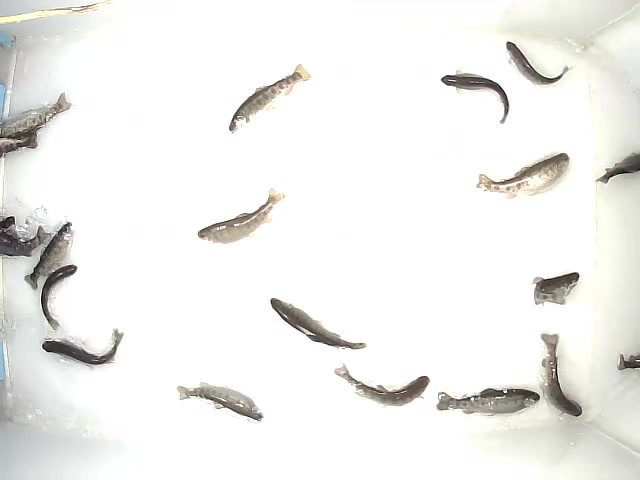fish: (228, 60, 311, 135), (268, 295, 369, 353), (194, 187, 285, 245), (475, 150, 571, 199), (332, 363, 431, 410), (22, 219, 76, 292), (41, 325, 123, 372), (439, 72, 510, 126), (437, 387, 543, 423), (540, 332, 585, 416), (501, 35, 572, 87), (176, 382, 264, 423), (39, 262, 80, 332), (532, 270, 583, 307)
